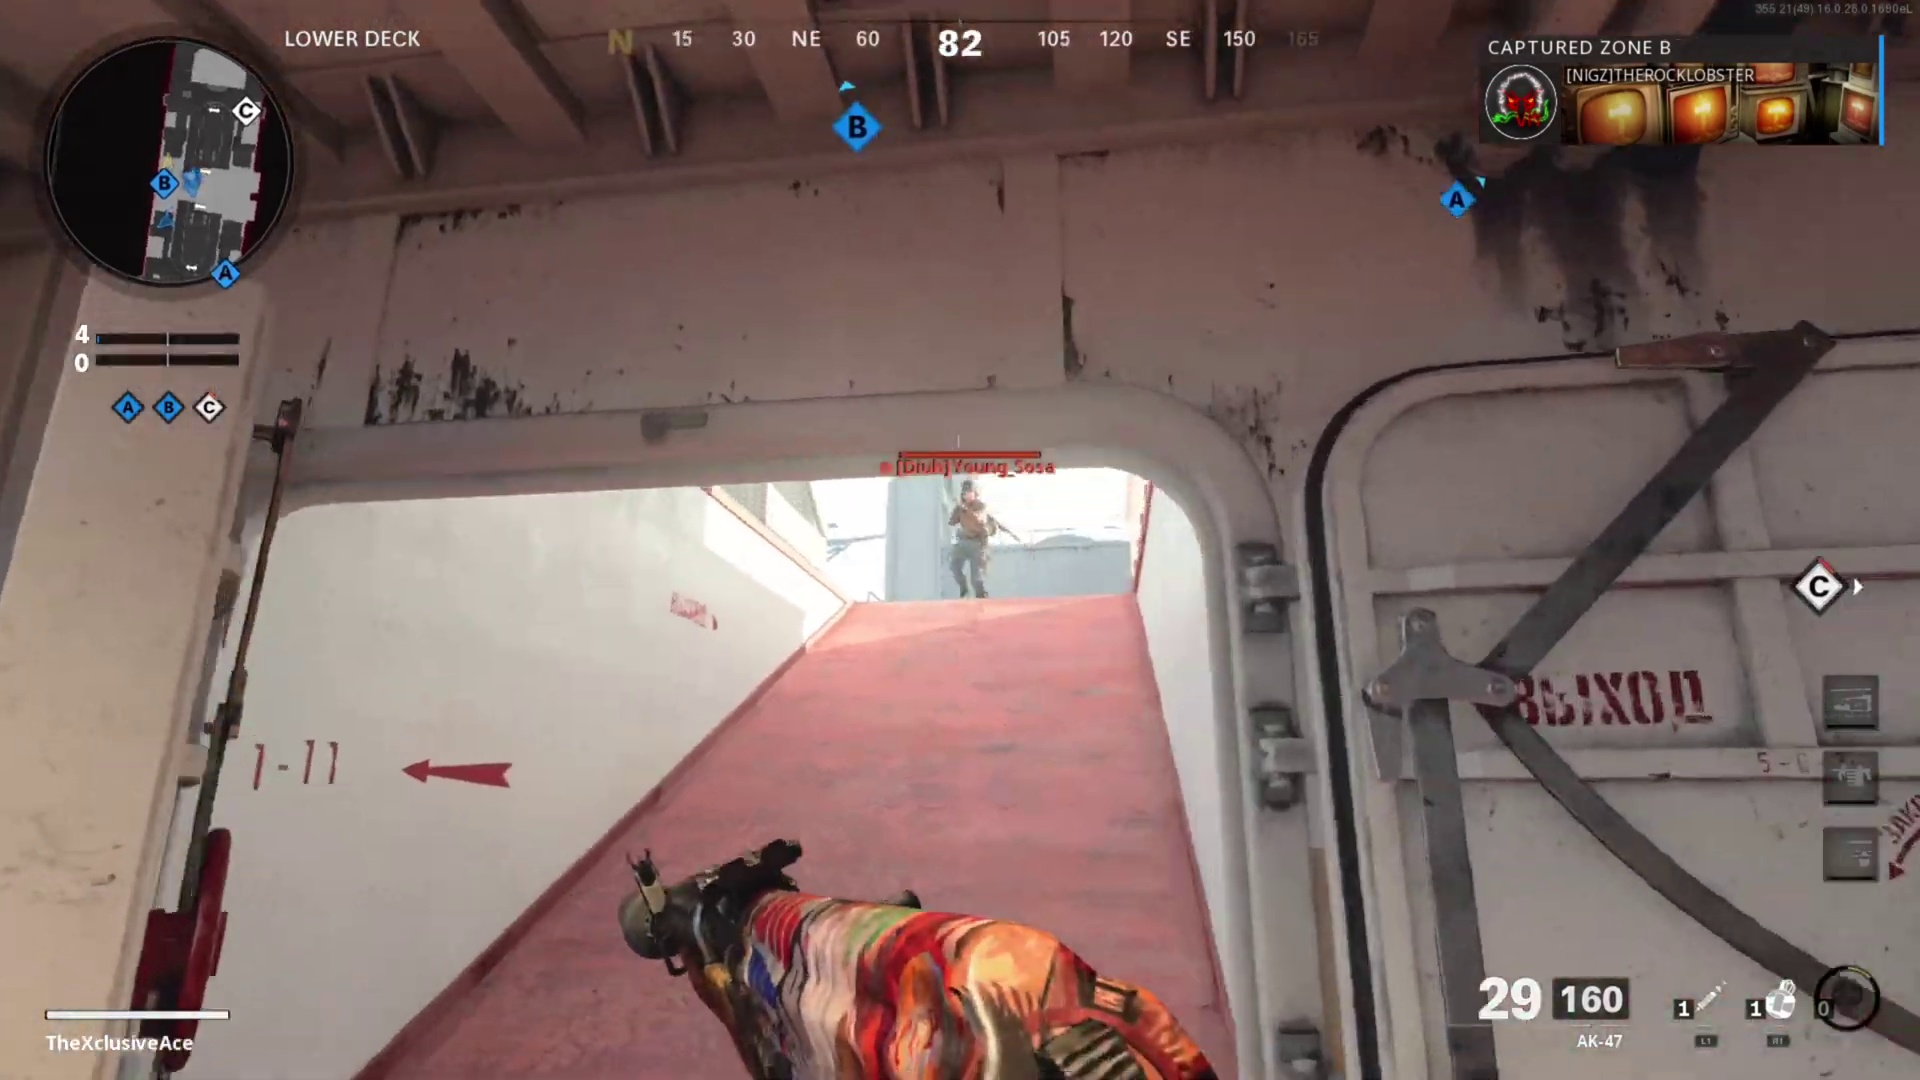head: (960, 486, 982, 517)
person: (944, 477, 1000, 597)
